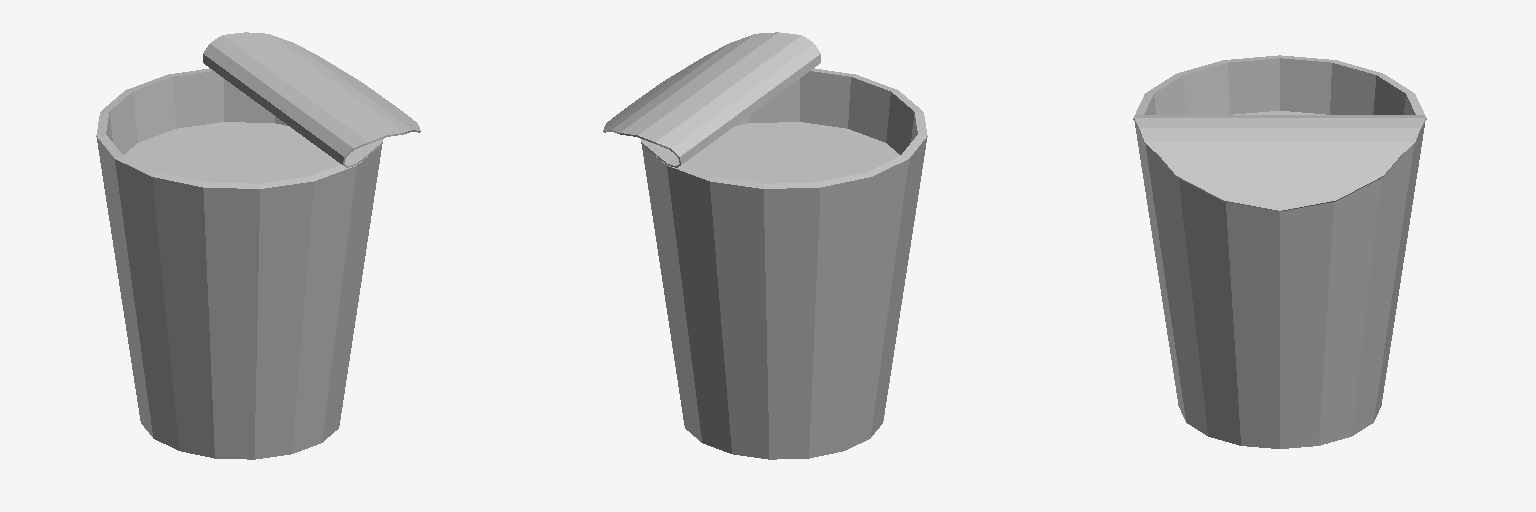
File: cupnoodlelid.obj
3 views of the same model, side by side, from view 1: azimuth 30°, elevation 25°; view 2: azimuth 150°, elevation 25°; view 3: azimuth 270°, elevation 25° (orthographic).
Visible parts, largest first — view 1: Circle_Circle.001, Circle.002_Circle.003, Circle.001_Circle.002; view 2: Circle_Circle.001, Circle.002_Circle.003, Circle.001_Circle.002; view 3: Circle_Circle.001, Circle.002_Circle.003.
Boxes of the visible parts, box(x1,y1,x2,y2) form: Circle_Circle.001: box(96, 68, 381, 459); Circle.002_Circle.003: box(203, 32, 420, 167); Circle.001_Circle.002: box(123, 122, 341, 183); Circle_Circle.001: box(642, 68, 927, 459); Circle.002_Circle.003: box(603, 32, 820, 167); Circle.001_Circle.002: box(682, 122, 900, 183); Circle_Circle.001: box(1135, 55, 1424, 448); Circle.002_Circle.003: box(1133, 115, 1426, 211).
Size of the model in its own units: 1.65 by 1.76 by 1.49.